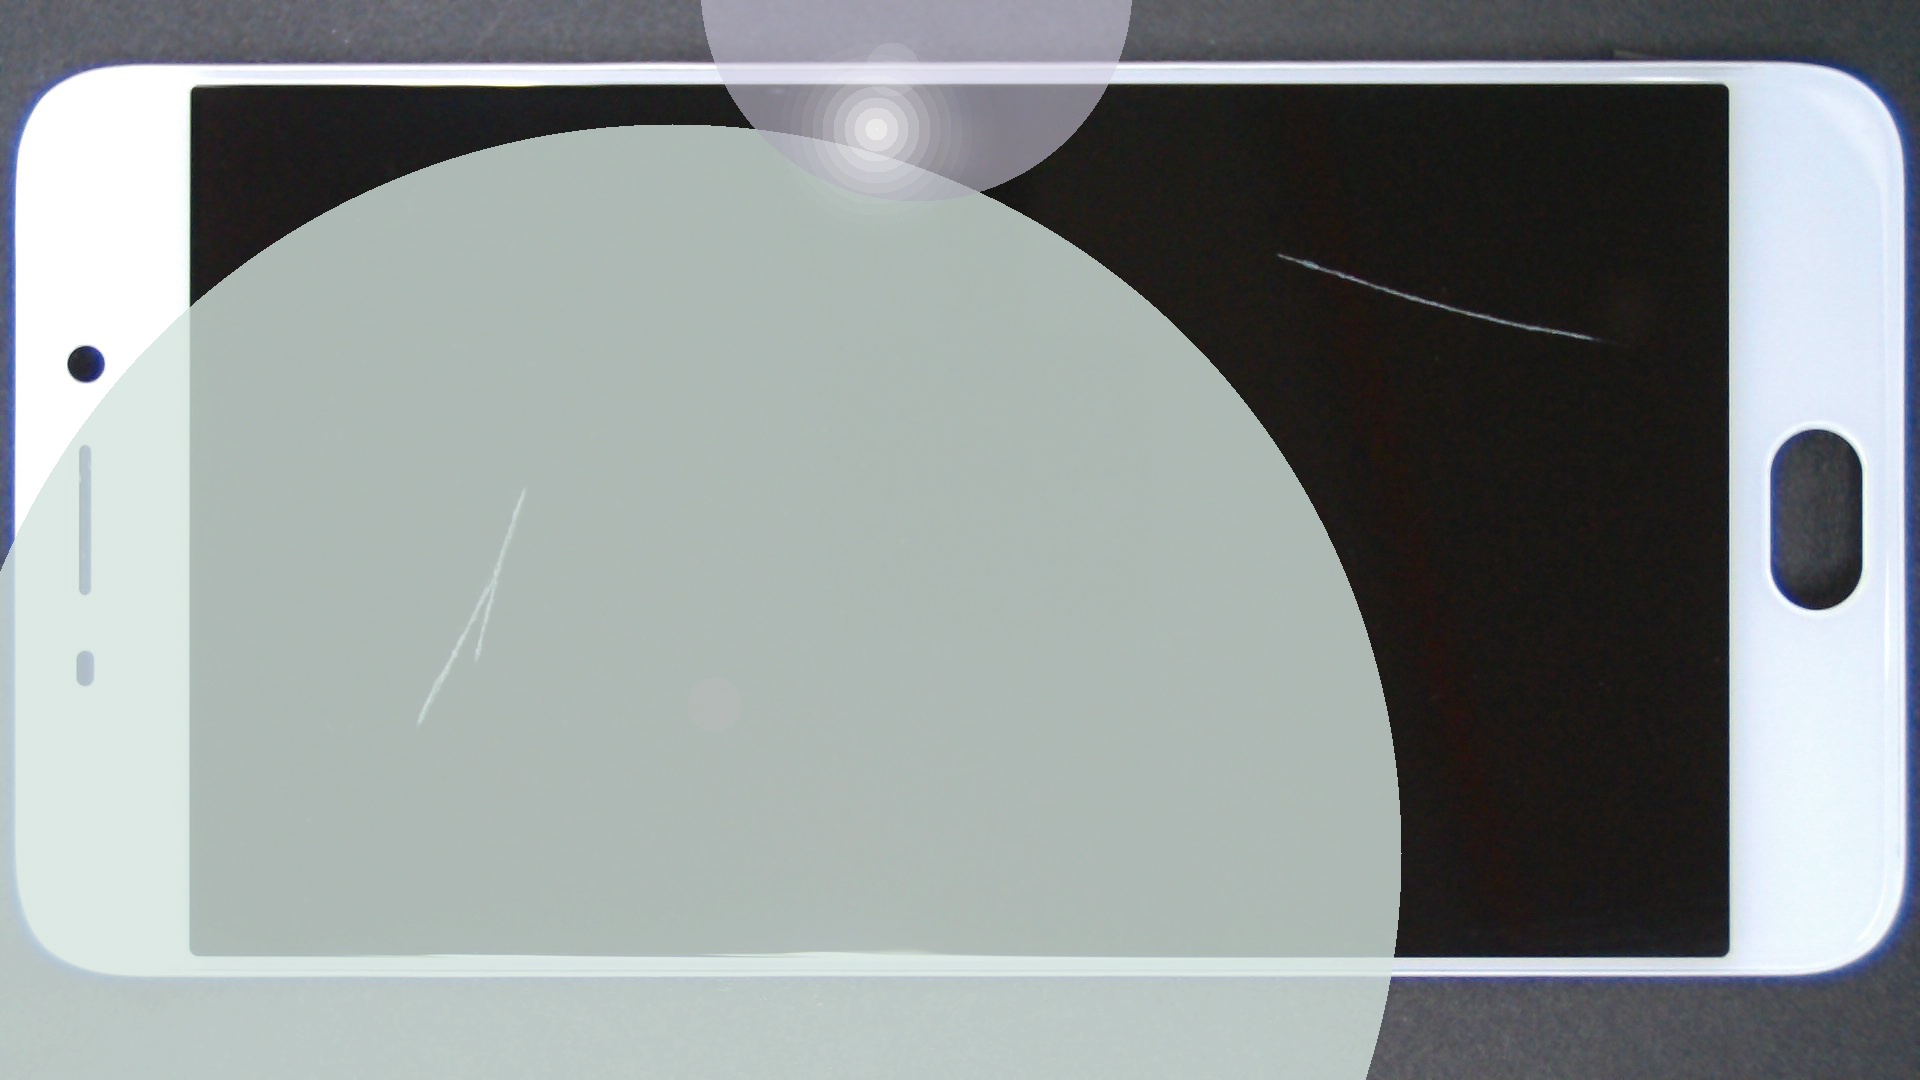oil: (638, 127, 1916, 380), (262, 244, 785, 732)
